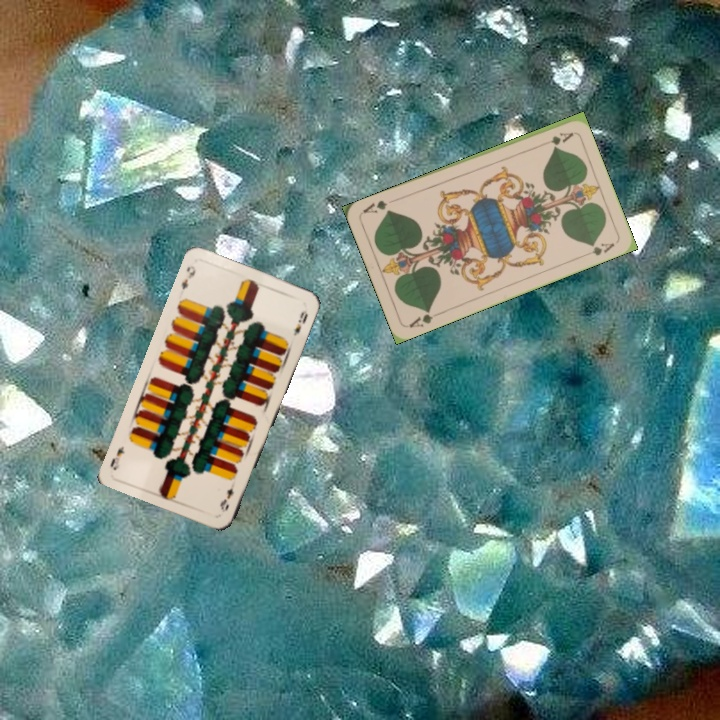E9: (177, 262, 198, 292), (217, 484, 237, 515)
GA: (405, 305, 436, 330), (547, 128, 575, 147)
